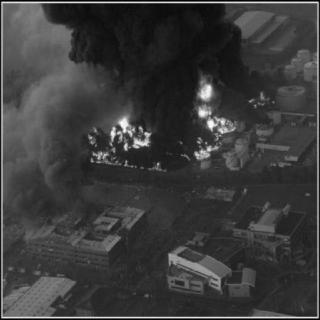Fire: (74, 60, 278, 172)
Smoke: (69, 4, 235, 68), (24, 36, 72, 188)
